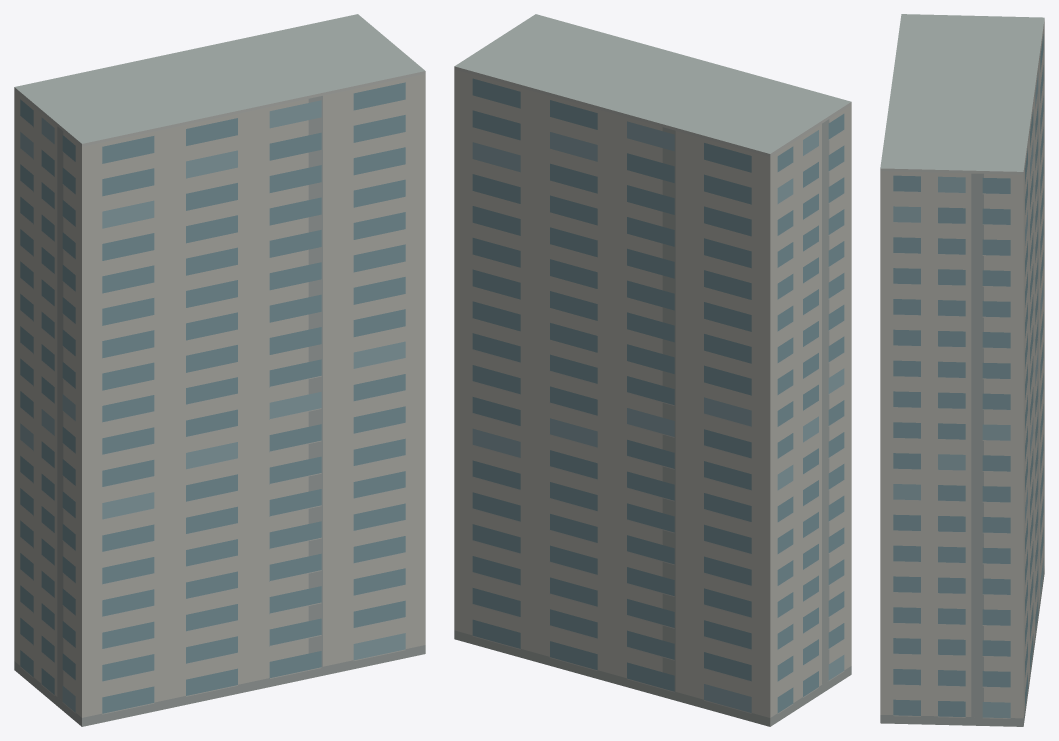
Rendered from residential-85f65a6e-ec40-4ec6-950b-3214e30b35be.glb.
The picture shows the model from 3 angles, left to right: view 1: azimuth 30°, elevation 25°; view 2: azimuth 150°, elevation 25°; view 3: azimuth 270°, elevation 25°; orthographic projection. The views are drawn at different scales.
Parts seen in each view (by area): view 1: residential-85f65a6e-ec40-4ec6-950b-3214e30b35be.tmp; view 2: residential-85f65a6e-ec40-4ec6-950b-3214e30b35be.tmp; view 3: residential-85f65a6e-ec40-4ec6-950b-3214e30b35be.tmp.
Boxes of the visible parts, x1,y1,x2,y2 form: residential-85f65a6e-ec40-4ec6-950b-3214e30b35be.tmp: [14, 14, 425, 726]; residential-85f65a6e-ec40-4ec6-950b-3214e30b35be.tmp: [454, 14, 851, 726]; residential-85f65a6e-ec40-4ec6-950b-3214e30b35be.tmp: [880, 14, 1044, 726].
Bounding box in the file's own units: 29.31 × 48 × 12.9.
